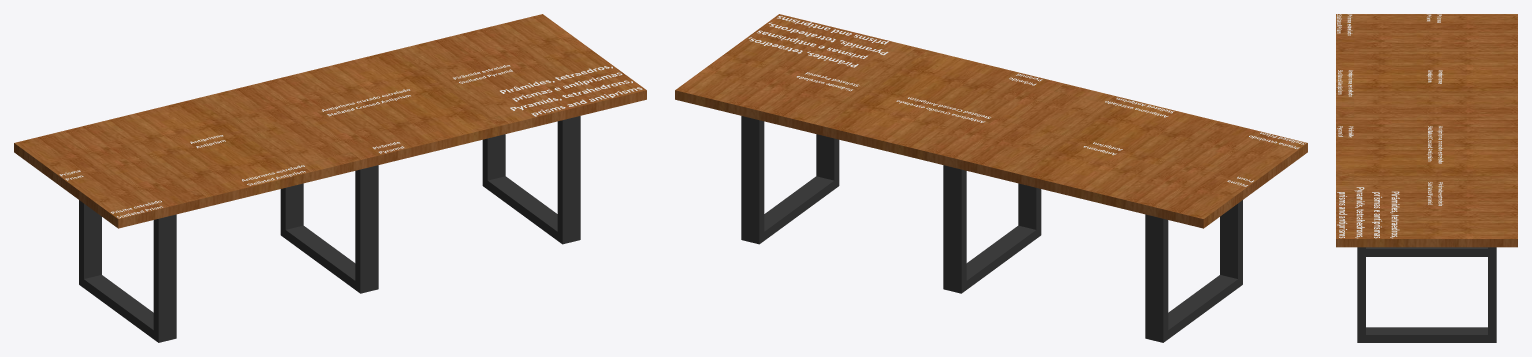
The model's file is mesa_Prisms2.glb.
3 views of the same model, side by side, from view 1: azimuth 30°, elevation 25°; view 2: azimuth 150°, elevation 25°; view 3: azimuth 270°, elevation 25° (orthographic). The views are drawn at different scales.
Visible parts, largest first — view 1: object 1, Composant#1 (×3), Pirâmides, tetra#1; view 2: object 1, Composant#1 (×3), Pirâmides, tetra#1; view 3: object 1, Composant#1 (×2), Pirâmides, tetra#1, Antiprisma cruza, Antiprisma estre#1, Pirâmide estrela, Prisma estrelado.
Boxes of the visible parts, x1=… form: object 1: x1=14, y1=14, x2=646, y2=228; Composant#1 (×3): x1=79, y1=116, x2=580, y2=342; Pirâmides, tetra#1: x1=500, y1=66, x2=642, y2=116; object 1: x1=675, y1=14, x2=1307, y2=228; Composant#1 (×3): x1=741, y1=116, x2=1242, y2=342; Pirâmides, tetra#1: x1=748, y1=16, x2=888, y2=67; object 1: x1=1336, y1=14, x2=1517, y2=247; Composant#1 (×2): x1=1357, y1=247, x2=1496, y2=342; Pirâmides, tetra#1: x1=1337, y1=187, x2=1399, y2=238; Antiprisma cruza: x1=1427, y1=126, x2=1443, y2=163; Antiprisma estre#1: x1=1337, y1=70, x2=1353, y2=96; Pirâmide estrela: x1=1427, y1=182, x2=1443, y2=205; Prisma estrelado: x1=1337, y1=14, x2=1352, y2=35.
Bounding box in the file's own units: 2.93 × 0.7711 × 1.
3 materials, 1 textured.
